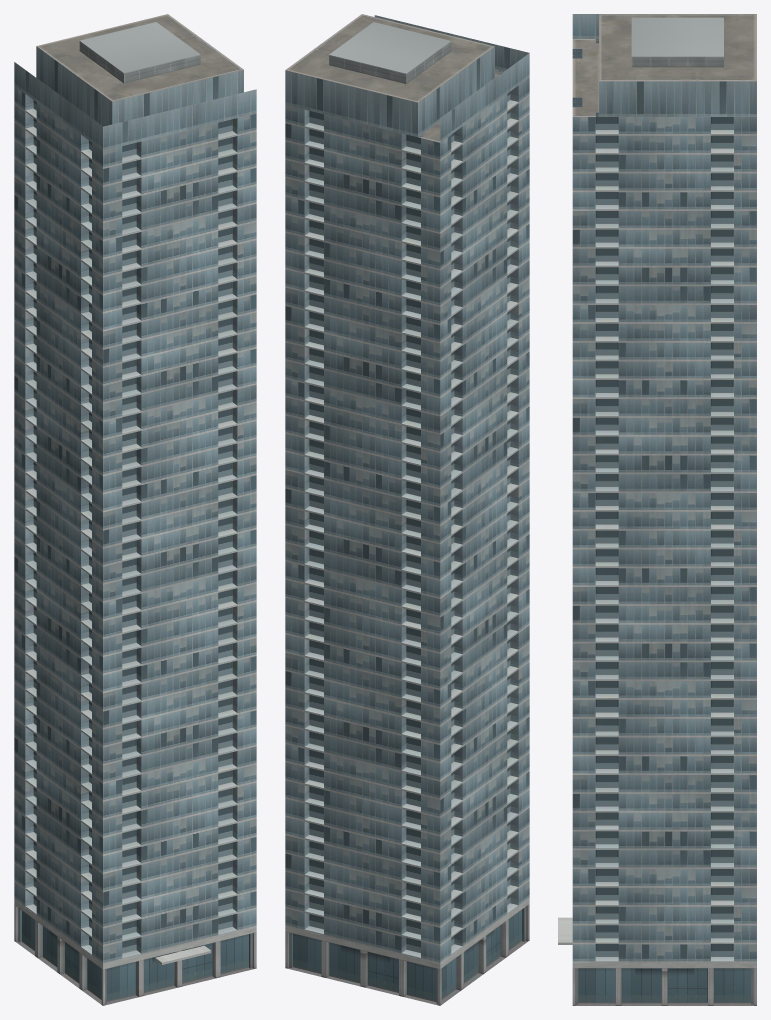
The model's file is sf_glasstower_a.glb.
3 views of the same model, side by side, from view 1: azimuth 30°, elevation 25°; view 2: azimuth 150°, elevation 25°; view 3: azimuth 270°, elevation 25° (orthographic). The views are drawn at different scales.
Parts seen in each view (by area): view 1: sf_glasstower_a; view 2: sf_glasstower_a; view 3: sf_glasstower_a.
Boxes of the visible parts, x1,y1,x2,y2 form: sf_glasstower_a: [14, 14, 256, 1005]; sf_glasstower_a: [285, 14, 529, 1005]; sf_glasstower_a: [558, 14, 756, 1005].
Bounding box in the file's own units: 27.99 × 157 × 30.2.
Materials: 1 (1 with a texture image).
